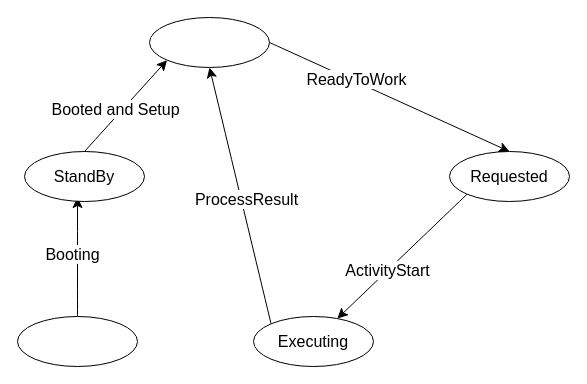
The diagram is 587 pixels wide and 384 high, and some of its shapes have lost their labels. The box of each missing label's shape, as (x1, y1, x2, y2) in pixels:
Idle: (148, 16, 270, 68)
Offline: (16, 316, 138, 366)
